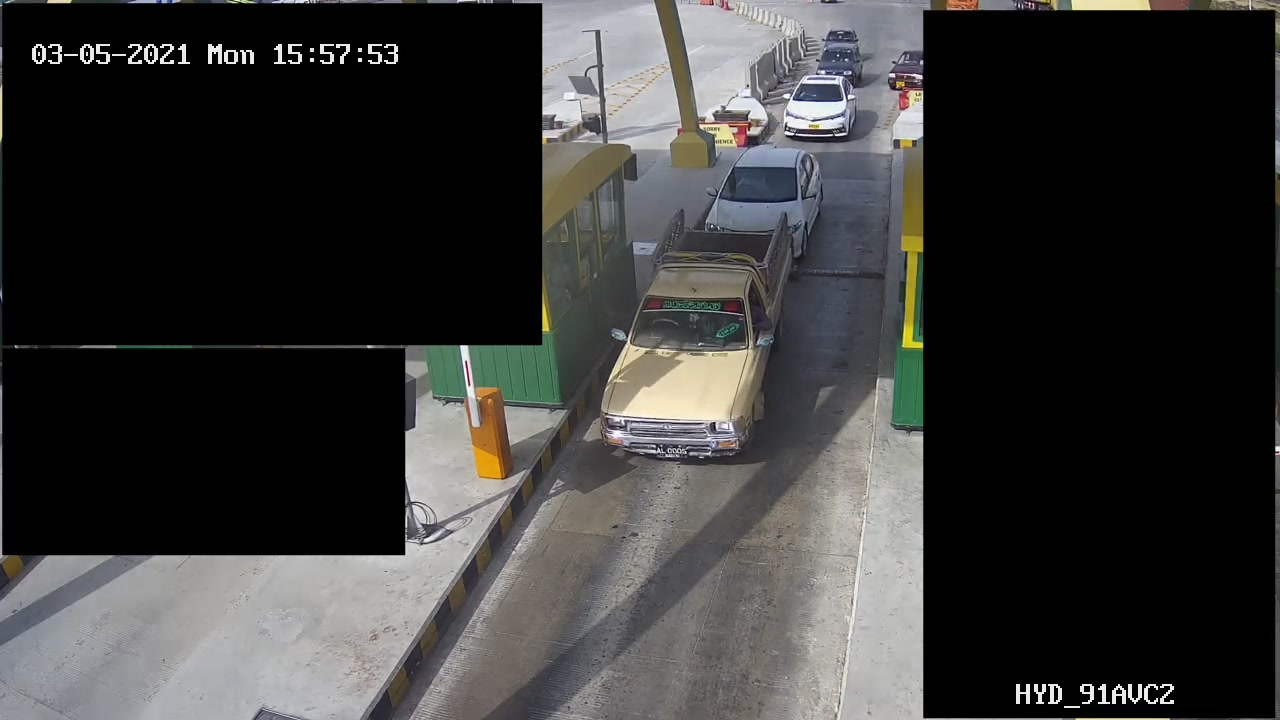F1: (590, 205, 794, 468)
